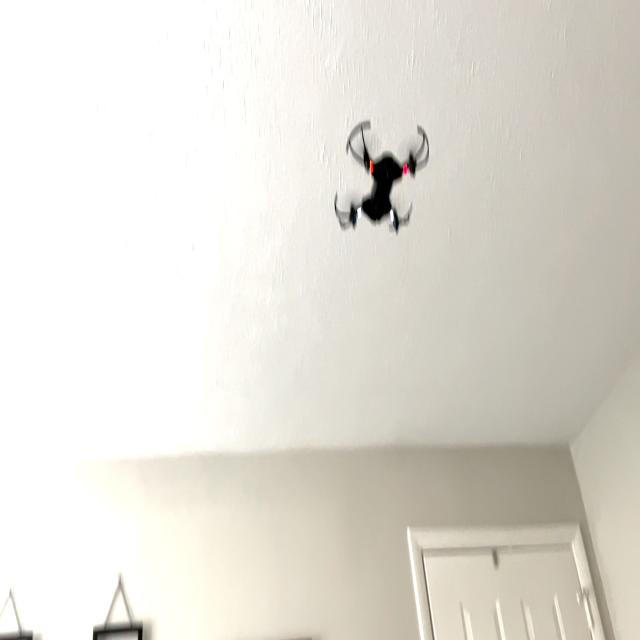drone: (332, 102, 436, 250)
